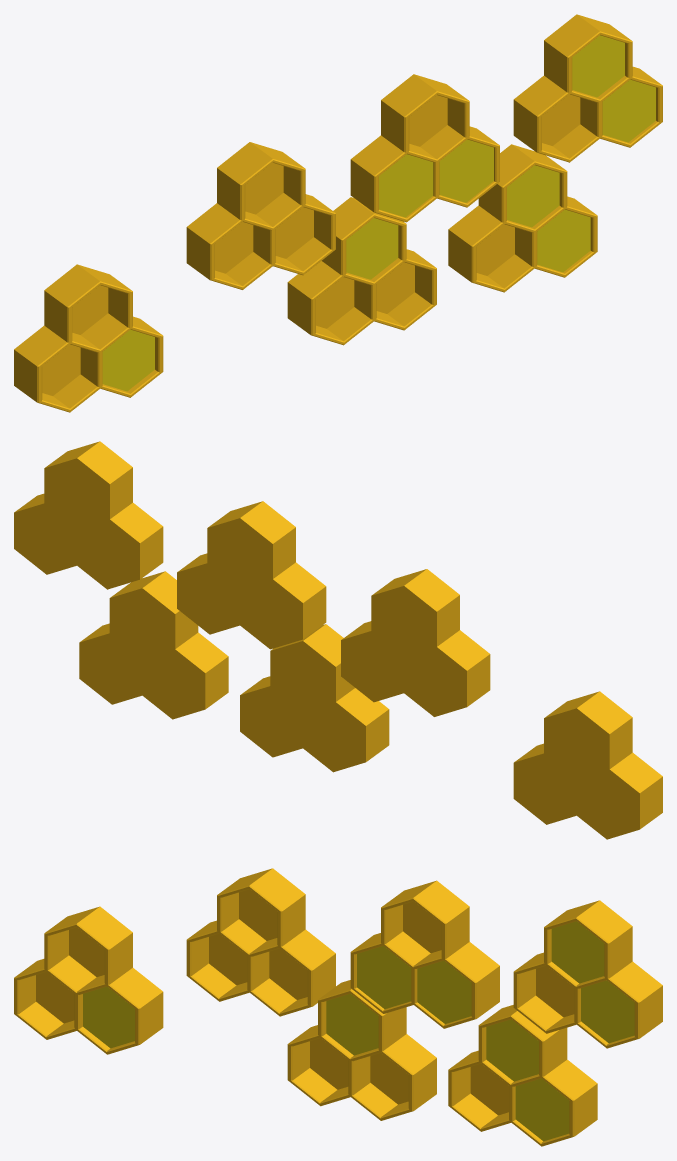
Rendered from honeyLevel2.fbx.
3 views of the same model, one above another, from view 1: azimuth 30°, elevation 25°; view 2: azimuth 150°, elevation 25°; view 3: azimuth 330°, elevation 25° (orthographic).
Visible parts, largest first — view 1: Cube.070, Cube.078, Cube.001, Cube.006, Cube.002, Cube.005; view 2: Cube.070, Cube.078, Cube.001, Cube.006, Cube.002, Cube.005; view 3: Cube.070, Cube.006, Cube.001, Cube.078, Cube.002, Cube.005.
Boxes of the visible parts, left/top/right/bottom form: Cube.070: left=14, top=264, right=163, bottom=412; Cube.078: left=186, top=142, right=335, bottom=289; Cube.001: left=350, top=74, right=499, bottom=222; Cube.006: left=513, top=14, right=662, bottom=162; Cube.002: left=448, top=144, right=597, bottom=292; Cube.005: left=287, top=197, right=436, bottom=345; Cube.070: left=513, top=691, right=662, bottom=839; Cube.078: left=341, top=569, right=490, bottom=716; Cube.001: left=177, top=501, right=326, bottom=649; Cube.006: left=14, top=441, right=163, bottom=589; Cube.002: left=79, top=571, right=228, bottom=719; Cube.005: left=240, top=624, right=389, bottom=772; Cube.070: left=14, top=906, right=163, bottom=1054; Cube.006: left=513, top=900, right=662, bottom=1048; Cube.001: left=350, top=880, right=499, bottom=1028; Cube.078: left=186, top=868, right=335, bottom=1016; Cube.002: left=448, top=1005, right=597, bottom=1146; Cube.005: left=287, top=980, right=436, bottom=1120.
Size of the model in its own units: 2550 by 982 by 167.
